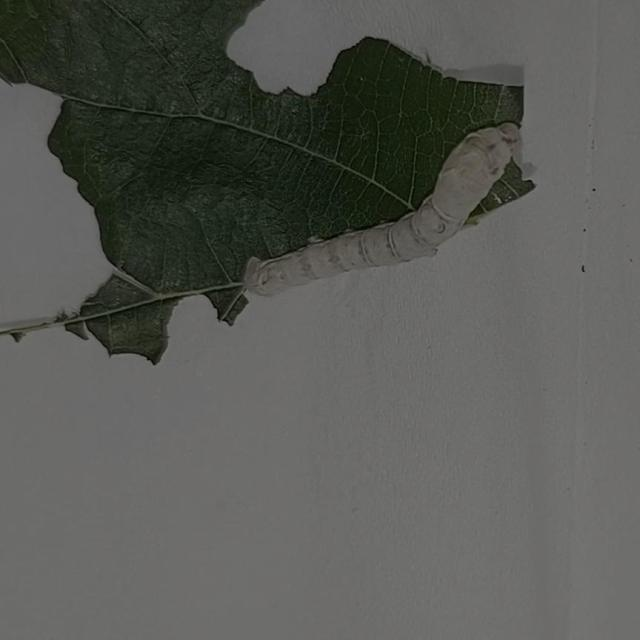Healthy: (237, 111, 530, 301)
